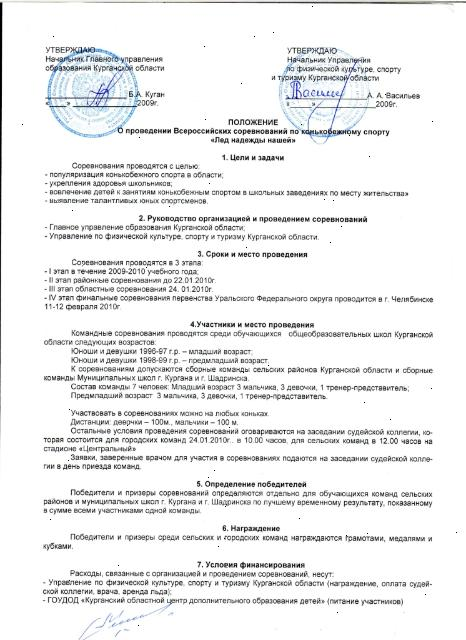stamp: (46, 49, 136, 138), (280, 49, 370, 135)
